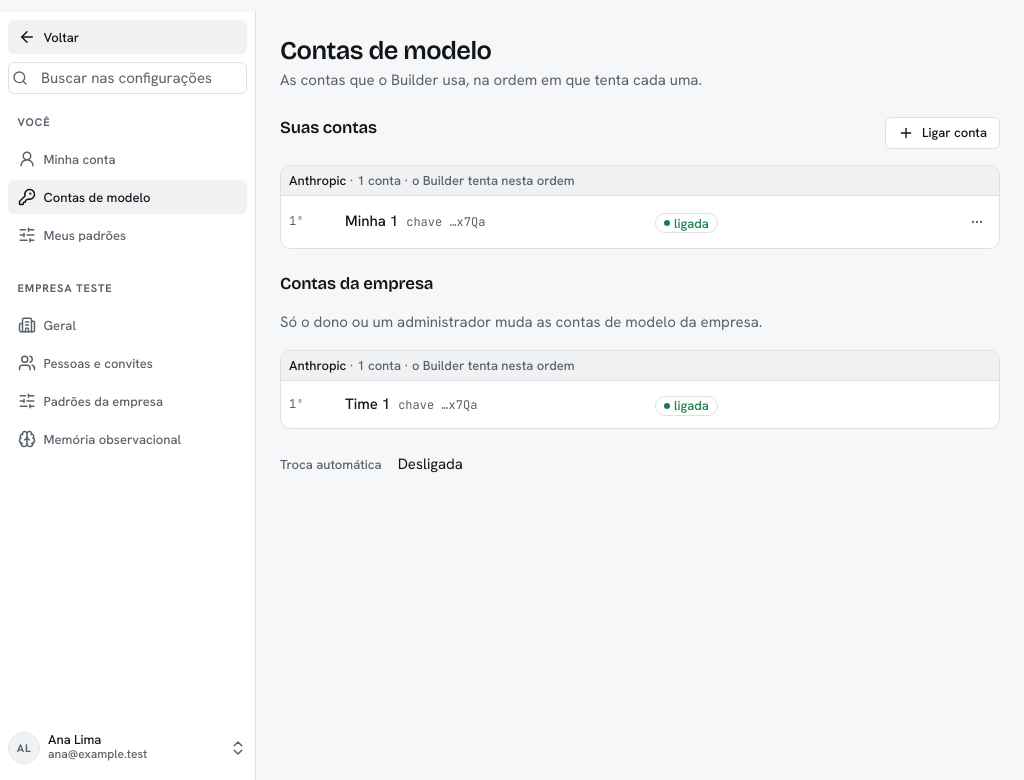
o membro lê as da empresa e age nas dele, sem link para outra página, sem setas e sem …
Expected: the text "Time 1" is shown, [345,393,390,416]
Expected: the text "Só o dono ou um administrador muda as contas" is shown, [280,312,762,332]
Click the button named "Mais ações para Minha 1" at (977, 222), box [963,208,991,236]
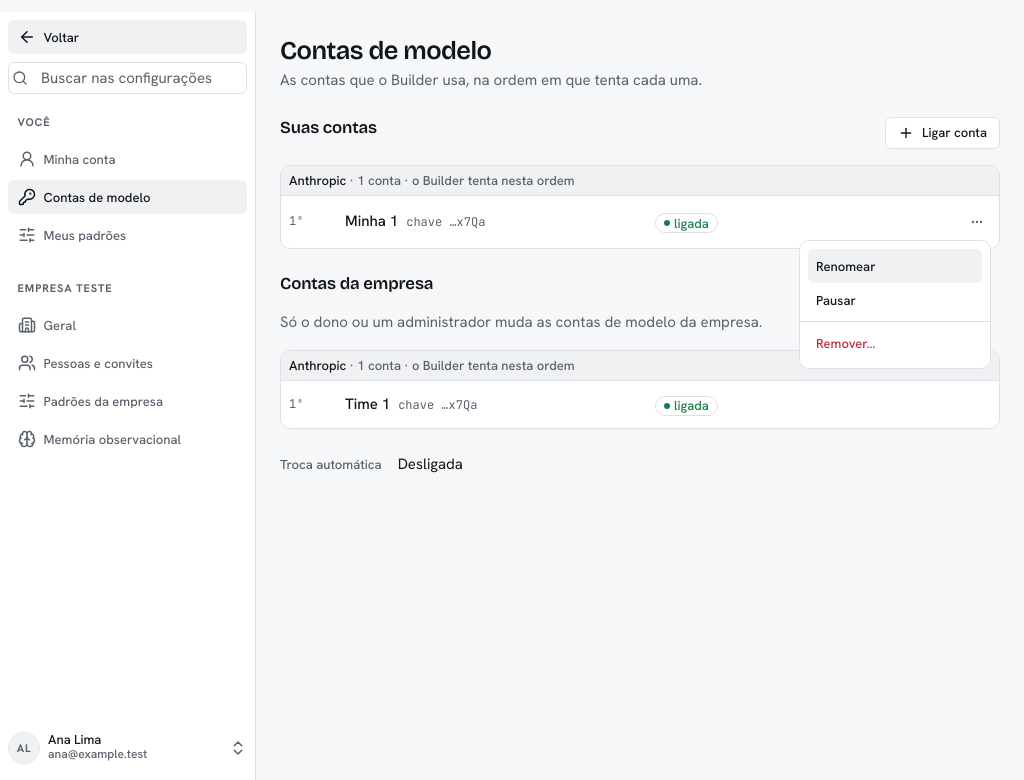
Click the menu item "Pausar" at (836, 300), box [816,292,856,308]
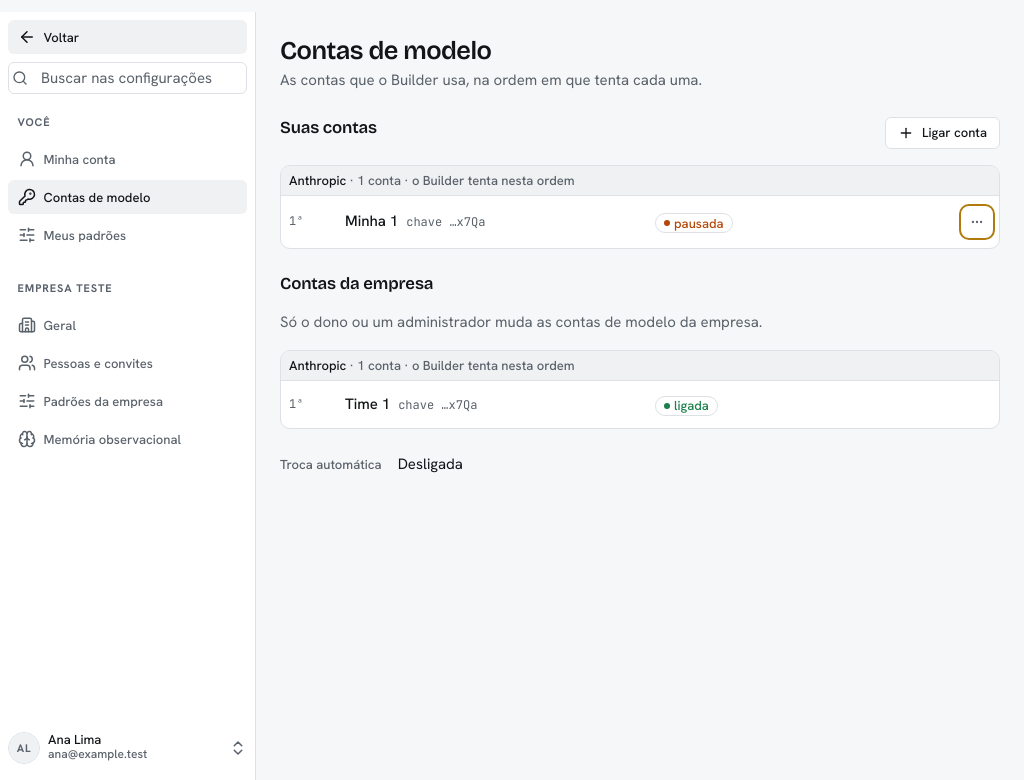
Now the text "pausada" is shown, box [655,213,733,233]
